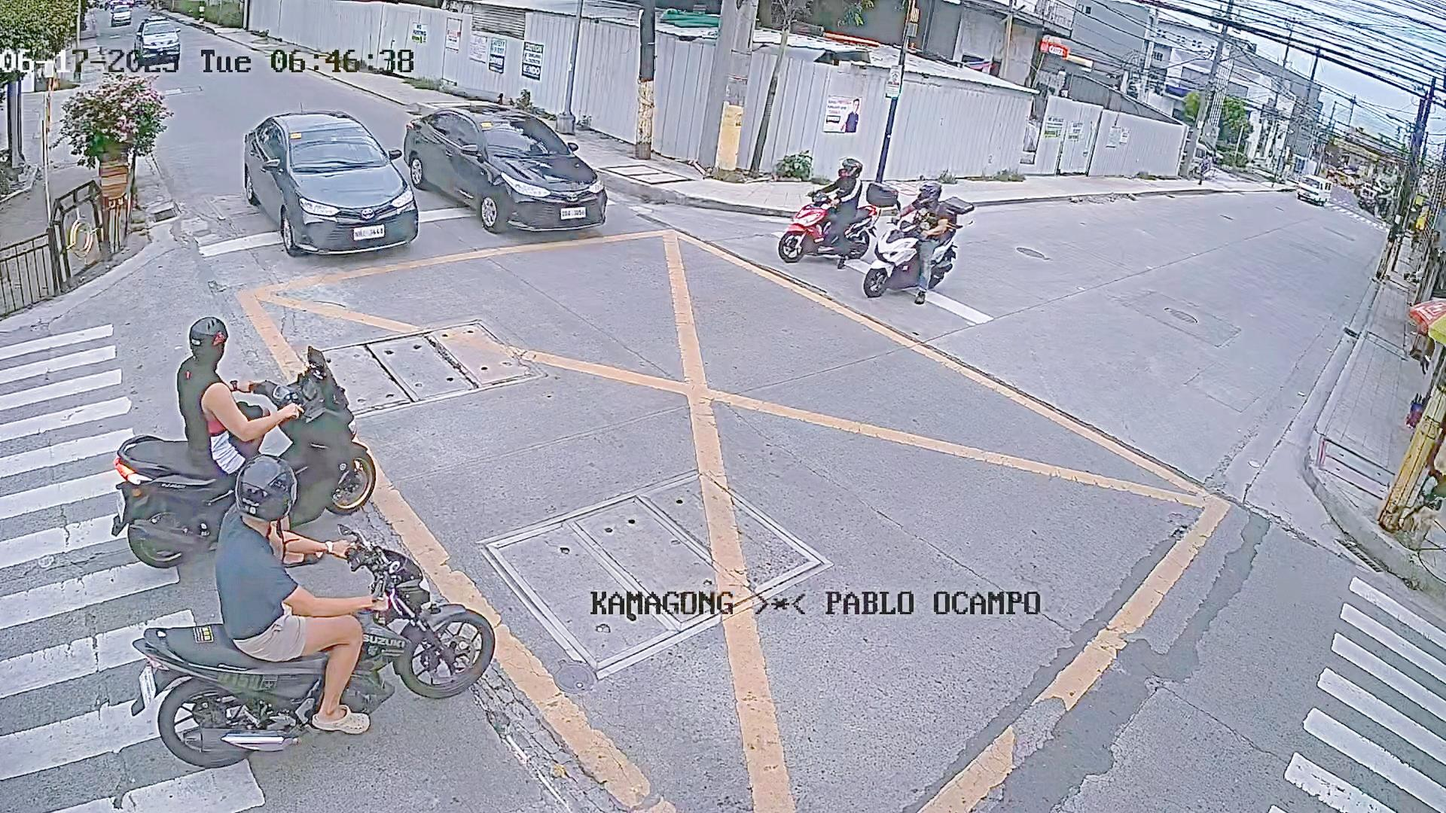Car: (215, 91, 453, 249), (404, 95, 637, 241)
Motor: (66, 475, 586, 742), (44, 318, 402, 540), (734, 156, 886, 279), (871, 183, 996, 298)
